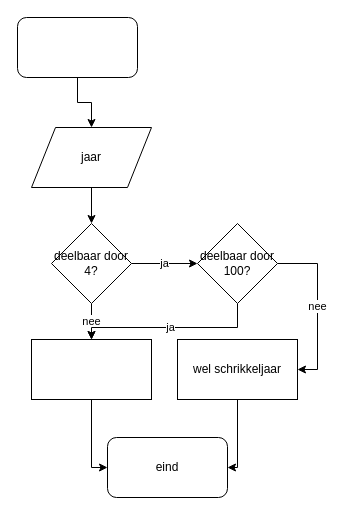
Some shapes in this 344 by 515 pixel diagram are drawn without their labels. Each missing label, with the centre of its shape:
geen schrikkeljaar: the point at 91,369
start: the point at 77,47
